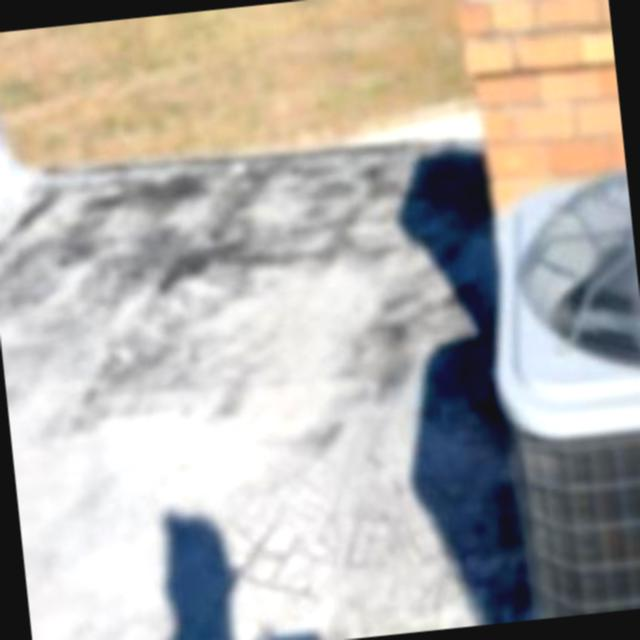SPLIT-SYSTEM: (465, 155, 640, 621)
